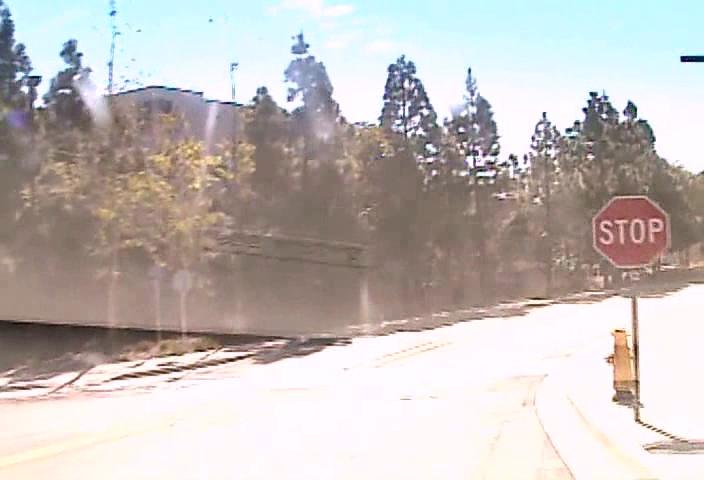stop: (592, 195, 671, 268)
